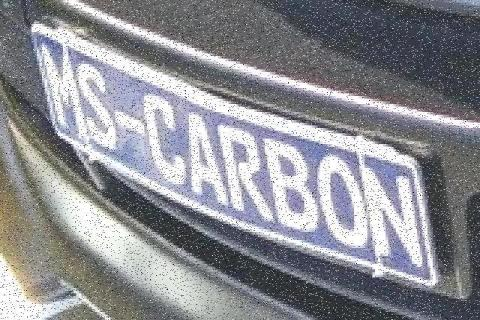LicensePlate: (17, 15, 442, 296)
